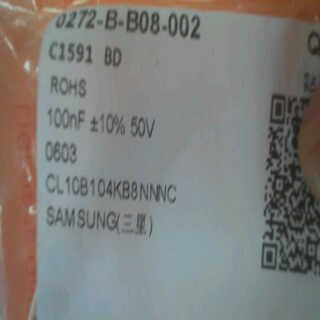100nF: (46, 103, 90, 132)
